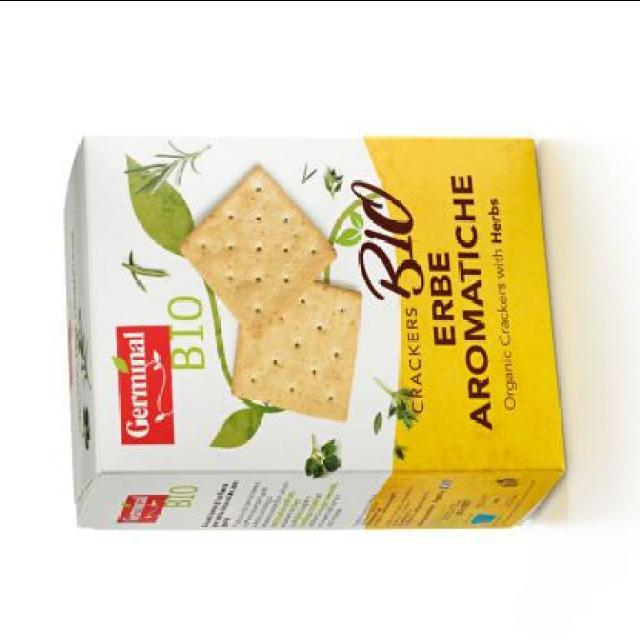Cracker: (61, 114, 577, 540)
